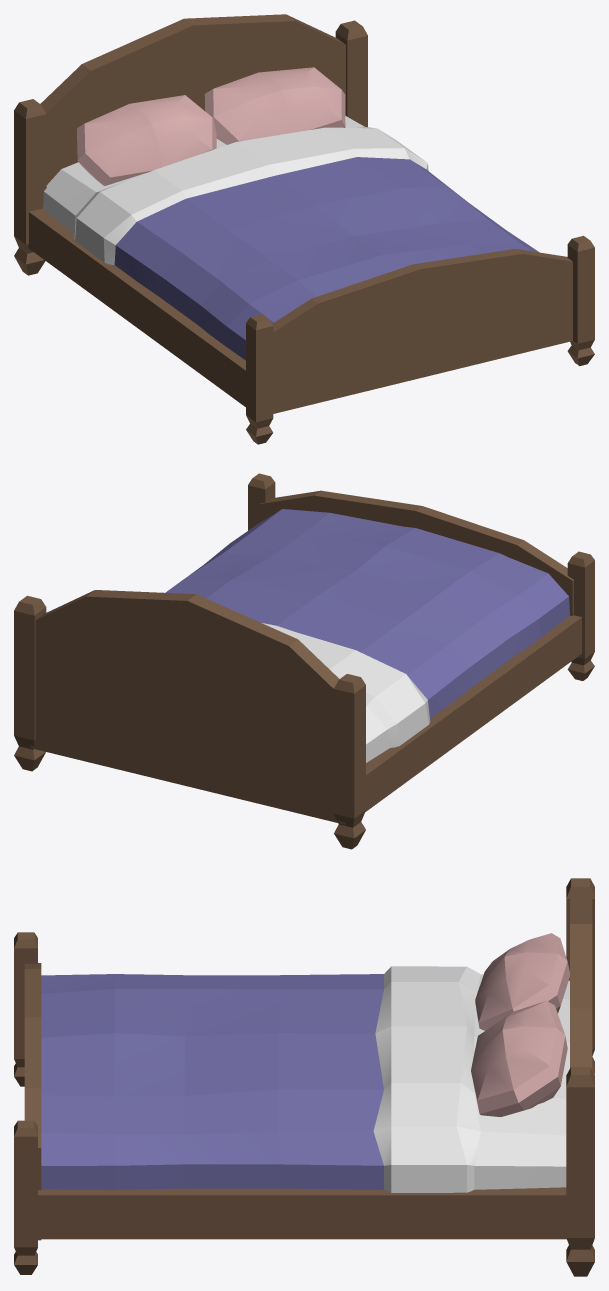
The model's file is Mansion_Bed_All.fbx.
3 renders of one model, top to bottom at view 1: azimuth 30°, elevation 25°; view 2: azimuth 150°, elevation 25°; view 3: azimuth 270°, elevation 25°, orthographic. The views are drawn at different scales.
Parts seen in each view (by area): view 1: polySurface24; view 2: polySurface24; view 3: polySurface24.
Part boxes in pixels (x1,y1,x2,y2): polySurface24: (14,14,594,444); polySurface24: (14,473,594,849); polySurface24: (14,878,594,1276).
Size of the model in its own units: 209 by 124 by 256.
